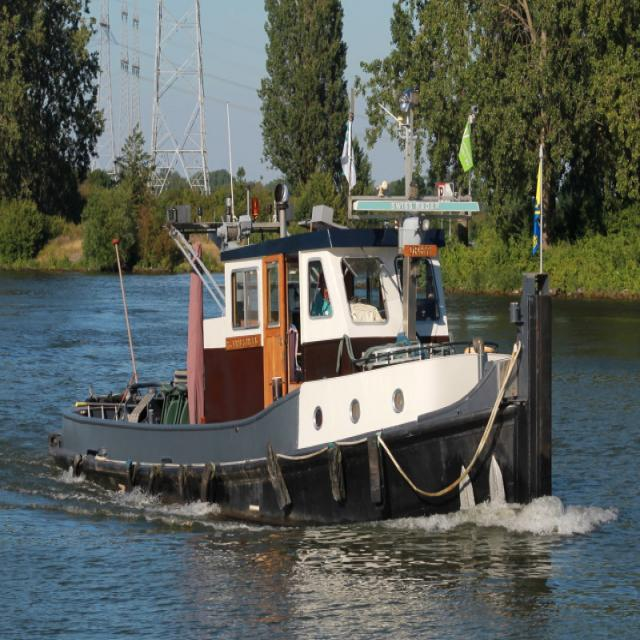tugboat: (45, 177, 558, 542)
